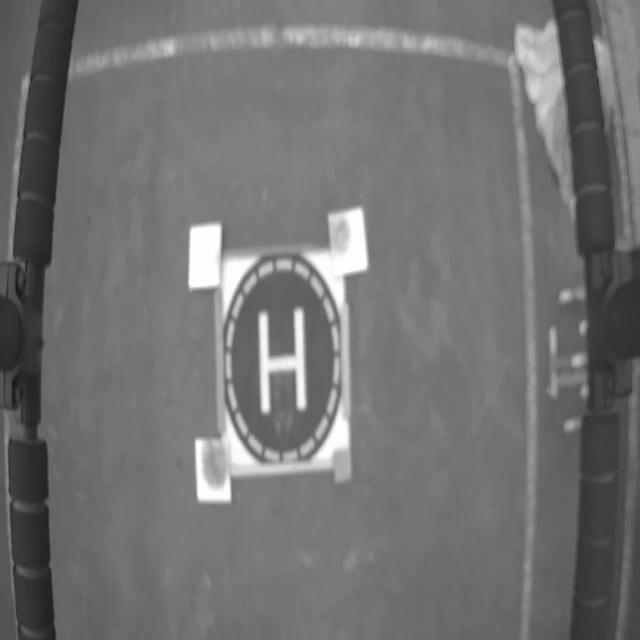Helipad: (257, 311, 308, 415)
